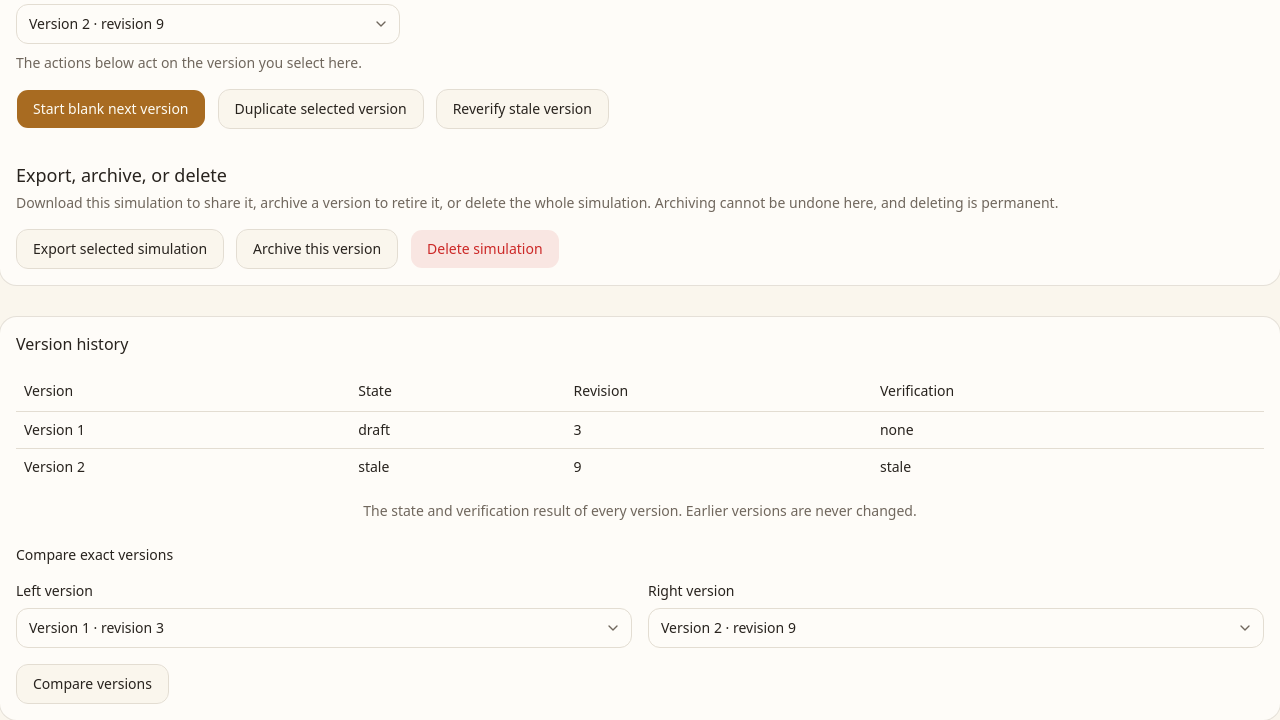
Scenario: simulation management page › loads detail/history together and renders every server comparison field with text cues
(page scrolled)
Click the button "Compare versions".
click(92, 684)  # box [16, 664, 169, 704]
(page scrolled)
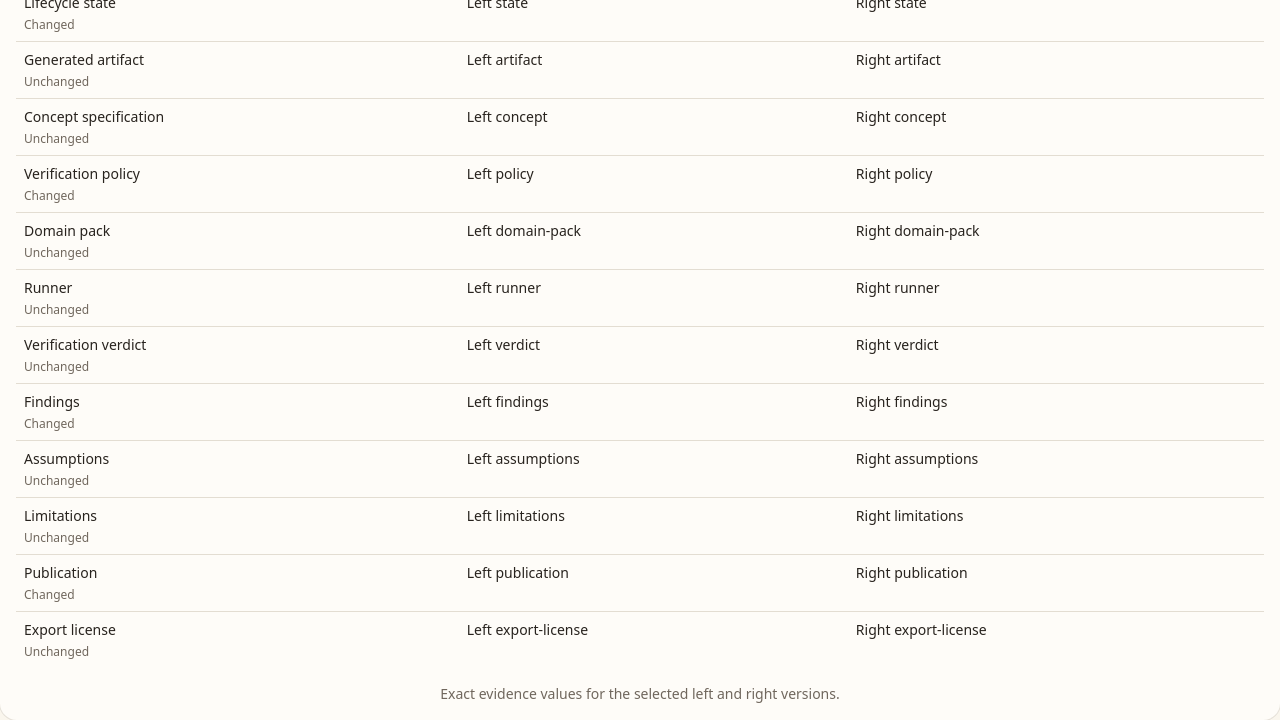
Expected: the text "Verification policy" is shown, [24, 164, 140, 183]
Expected: the text "Findings" is shown, [24, 392, 80, 411]
Expected: the text "Publication" is shown, [24, 563, 97, 582]
